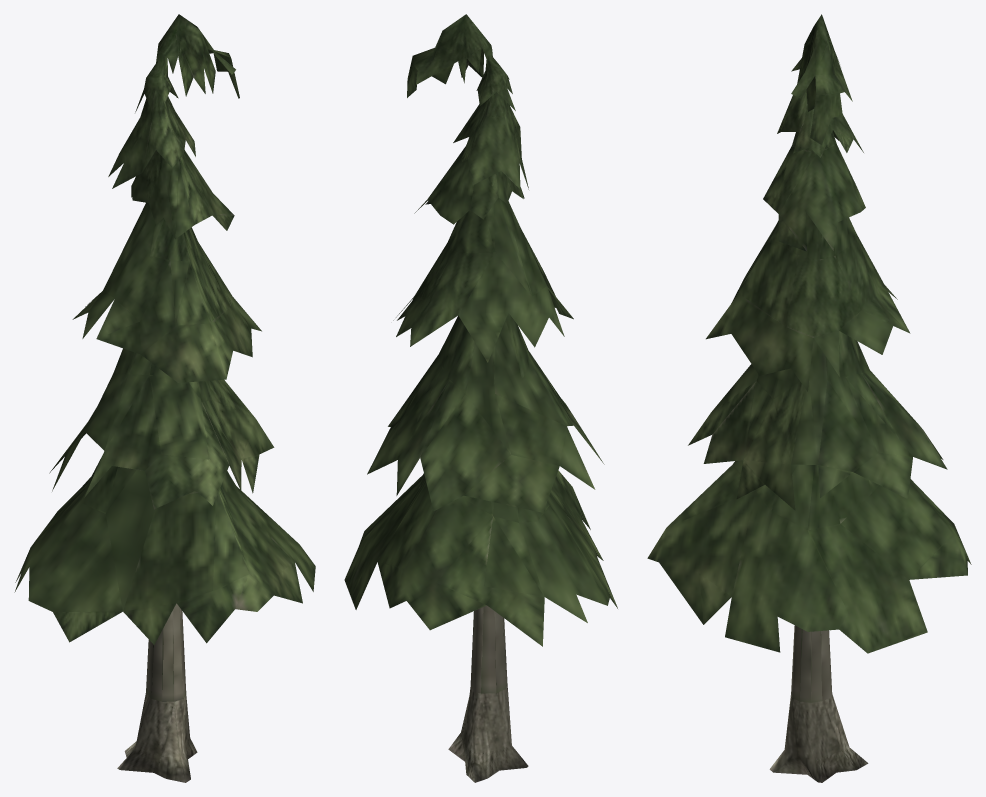
File: tree-spruce-03.glb
3 renders of one model, left to right at view 1: azimuth 30°, elevation 25°; view 2: azimuth 150°, elevation 25°; view 3: azimuth 270°, elevation 25°, orthographic. The views are drawn at different scales.
Bounding box in the file's own units: 0.3506 × 0.9521 × 0.3657.
1 material, 1 textured.
